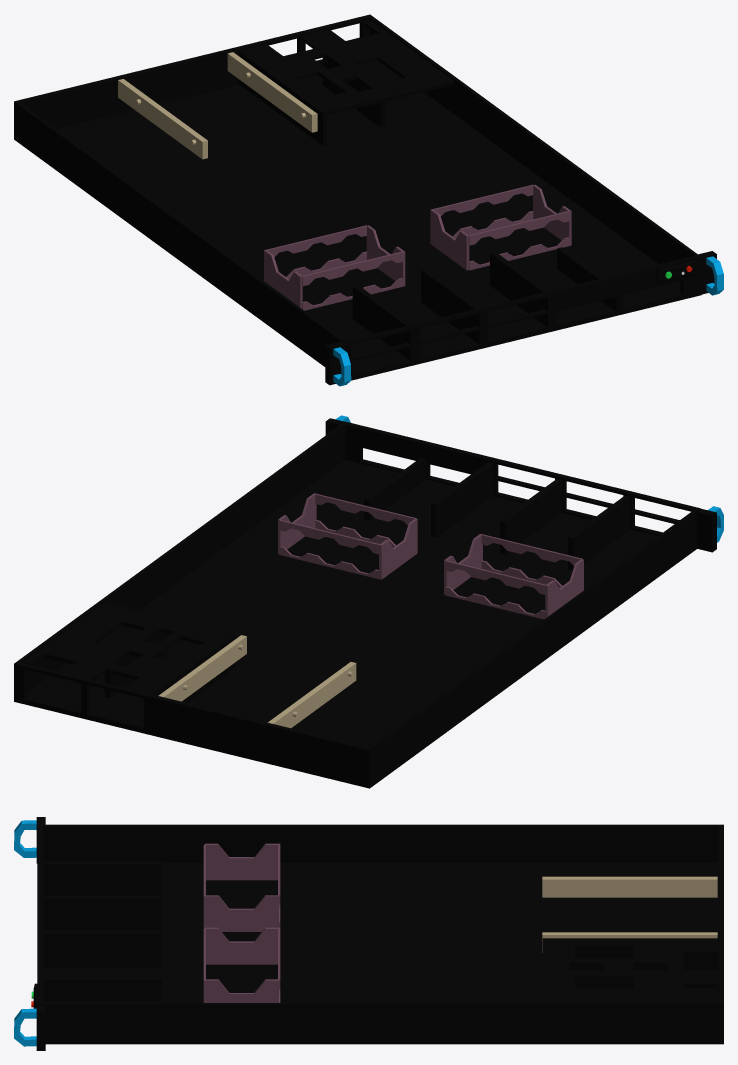
The model's file is lp_frame.glb.
The picture shows the model from 3 angles, top to bottom: view 1: azimuth 30°, elevation 25°; view 2: azimuth 150°, elevation 25°; view 3: azimuth 270°, elevation 25°; orthographic projection. The views are drawn at different scales.
Parts seen in each view (by area): view 1: frame, Cube.048, Cube; view 2: frame, Cube.048, Cube; view 3: frame, Cube, Cube.048.
Part boxes in pixels (x1,y1,x2,y2): frame: (14,14,723,386); Cube.048: (430,184,571,270); Cube: (264,225,405,310); frame: (14,415,723,788); Cube.048: (278,493,417,579); Cube: (444,534,583,619); frame: (14,817,723,1050); Cube: (203,843,280,931); Cube.048: (203,927,280,1002).
Size of the model in its own units: 0.4794 by 0.0451 by 0.7347.
